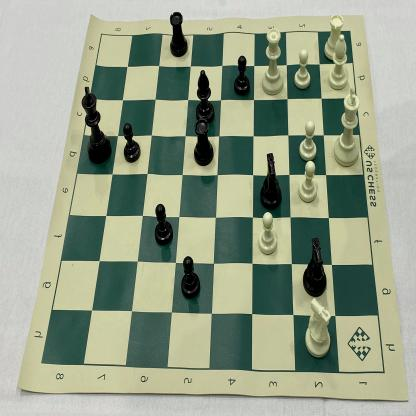black-bishop: (192, 63, 218, 127)
black-king: (77, 83, 113, 167), (120, 119, 142, 165)
black-knight: (255, 146, 285, 212), (300, 233, 330, 298)
black-pawn: (178, 253, 202, 301), (232, 50, 252, 97)
black-rook: (165, 6, 190, 61), (190, 118, 216, 170), (151, 201, 174, 248)
white-bishop: (324, 32, 350, 93)
white-king: (332, 85, 362, 170)
white-knight: (299, 294, 334, 362)
white-pawn: (254, 210, 279, 258), (295, 158, 321, 204), (292, 45, 314, 91), (298, 118, 320, 163)
white-queen: (259, 24, 287, 98)
white-rook: (320, 11, 347, 65)
